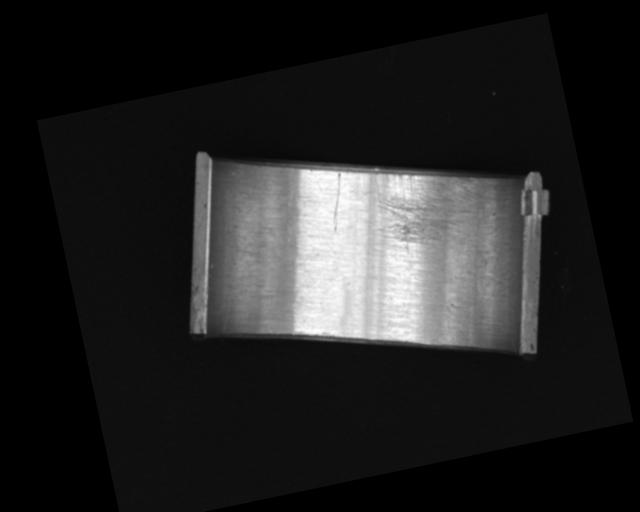nick: (208, 245, 264, 334), (321, 172, 352, 232)
scratch: (369, 152, 486, 256)
